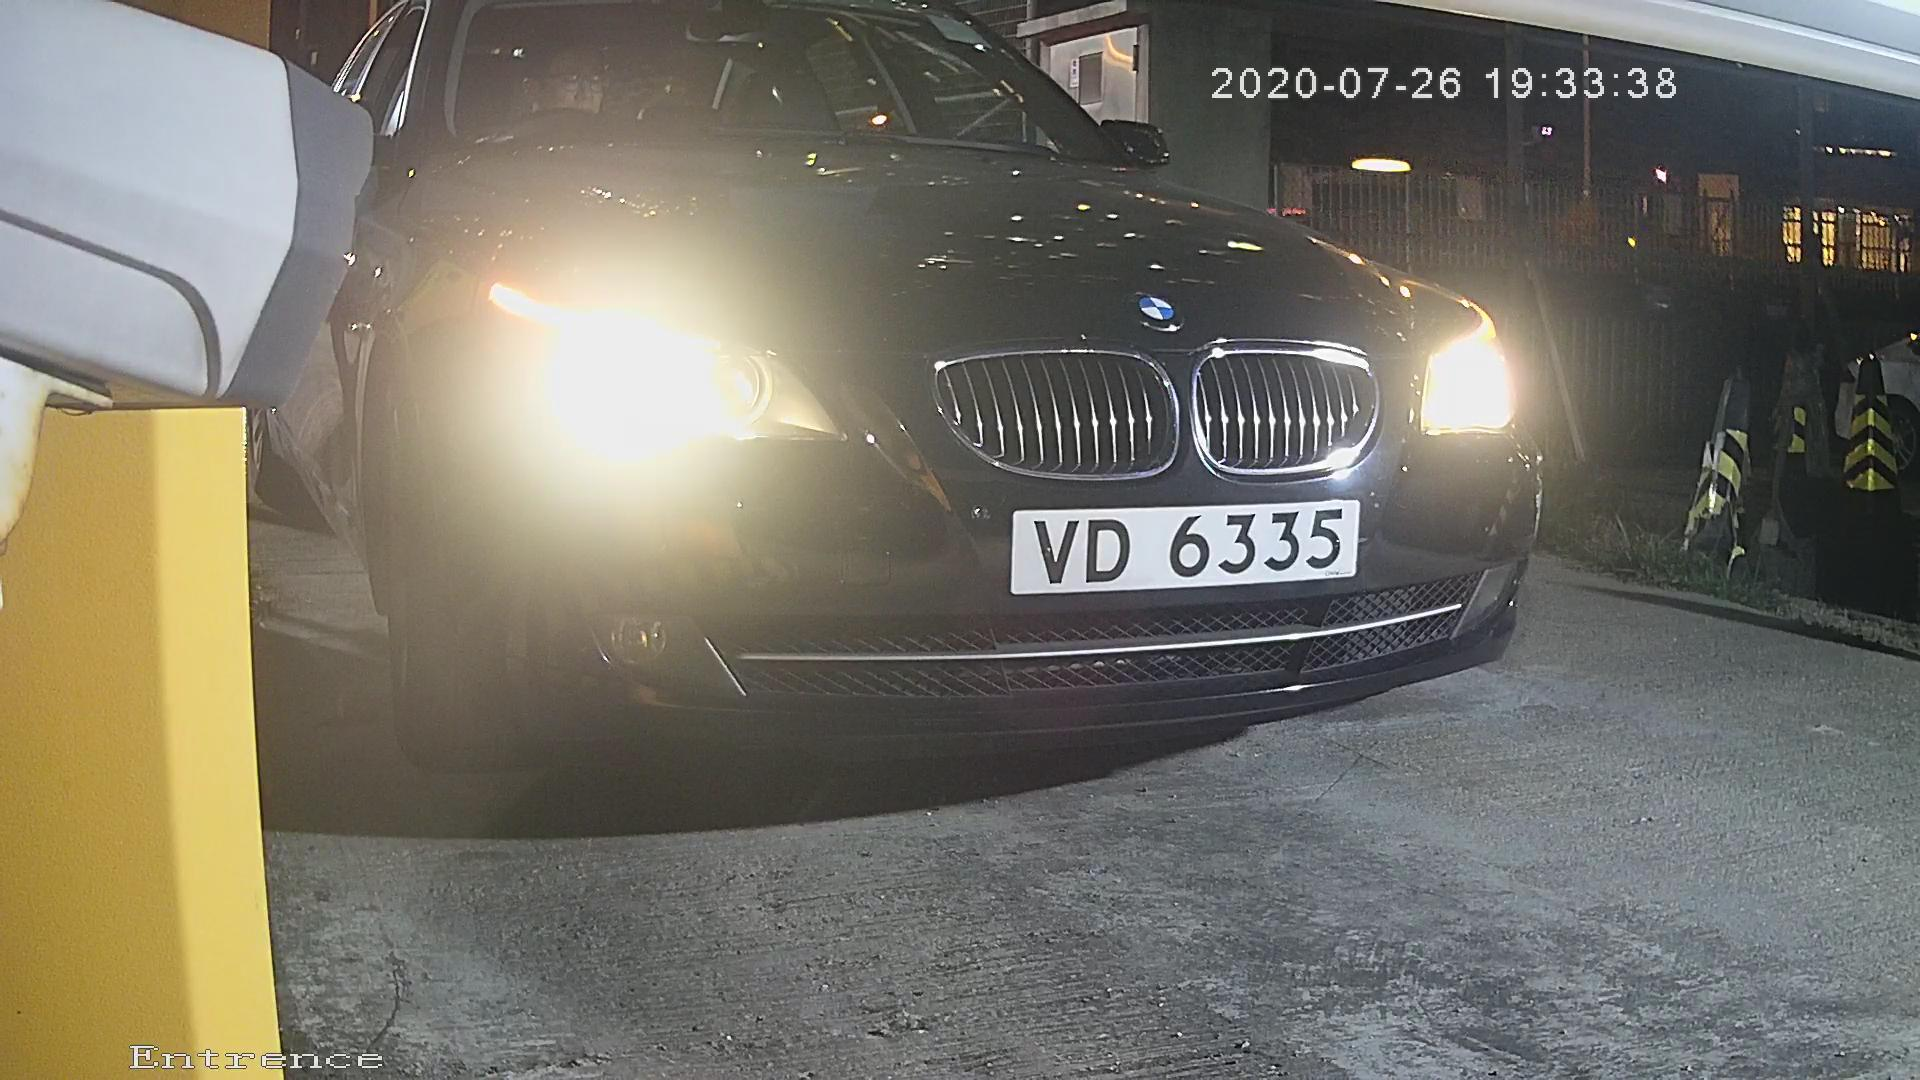Car: (146, 49, 1603, 782)
License Plate: (969, 487, 1363, 603)
